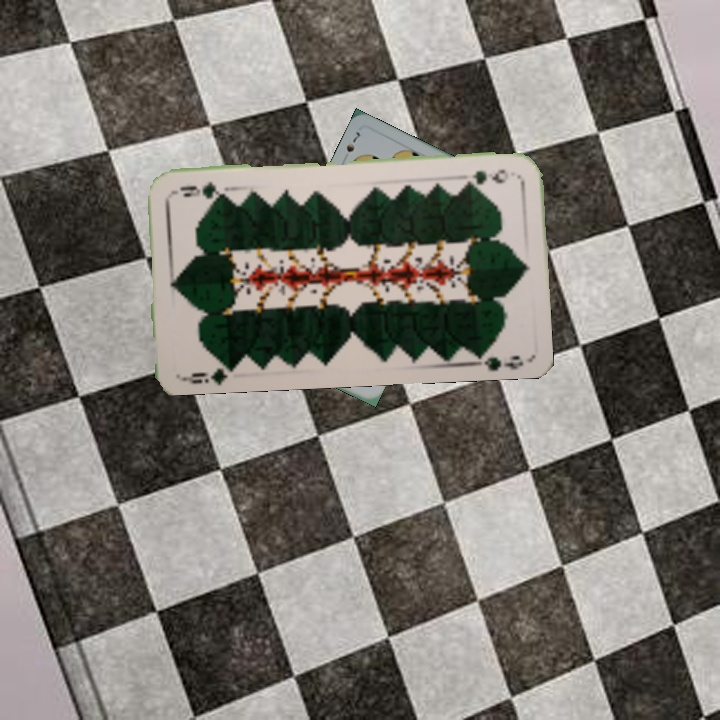G9: (178, 358, 237, 386), (468, 165, 511, 186)
S7: (342, 127, 363, 155)
